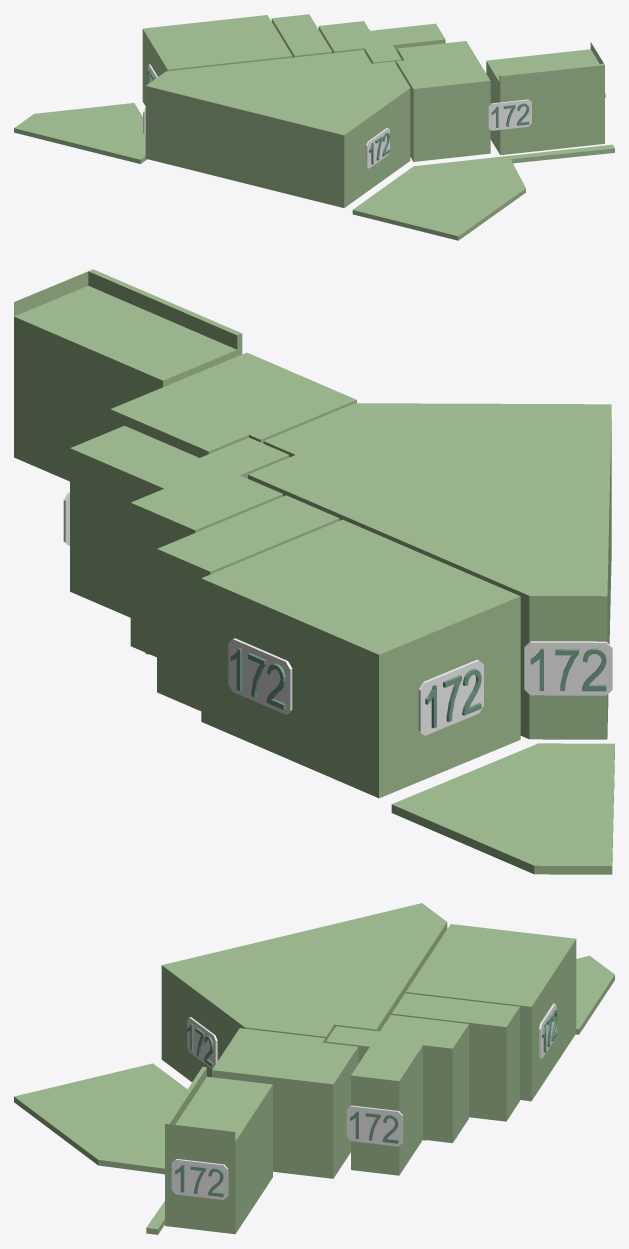
The picture shows the model from 3 angles, top to bottom: view 1: azimuth 30°, elevation 25°; view 2: azimuth 150°, elevation 25°; view 3: azimuth 270°, elevation 25°; orthographic projection. The views are drawn at different scales.
Visible parts, largest first — view 1: g_0, g_6, g_5, g_4, g_1, g_7, g_3, g_2, g_35, g_23; view 2: g_1, g_0, g_5, g_3, g_7, g_4, g_2, g_27, g_19, g_11; view 3: g_0, g_3, g_1, g_4, g_5, g_6, g_2, g_7, g_15, g_31, g_23.
Part boxes in pixels (x1,y1,x2,y2): g_0: (145,50,410,207); g_6: (352,144,614,240); g_5: (486,42,604,155); g_4: (396,41,490,161); g_1: (142,15,292,105); g_7: (14,103,146,163); g_3: (318,21,445,63); g_2: (271,14,332,57); g_35: (488,99,531,130); g_23: (366,127,389,168); g_1: (201,519,520,798); g_0: (248,403,611,739); g_5: (14,269,242,481); g_3: (70,425,289,657); g_7: (391,743,614,874); g_4: (110,352,356,457); g_2: (157,495,339,710); g_27: (524,641,612,695); g_19: (228,638,292,714); g_11: (418,659,483,735); g_0: (161,903,447,1081); g_3: (326,1015,468,1175); g_1: (406,924,576,1101); g_4: (212,1028,358,1178); g_5: (165,1066,272,1234); g_6: (14,1063,187,1234); g_2: (391,993,519,1121); g_7: (576,955,614,1034); g_15: (171,1159,228,1199); g_31: (346,1105,402,1146); g_23: (187,1017,217,1069).
Bounding box in the file's own units: 15.8 × 2.85 × 14.38.
